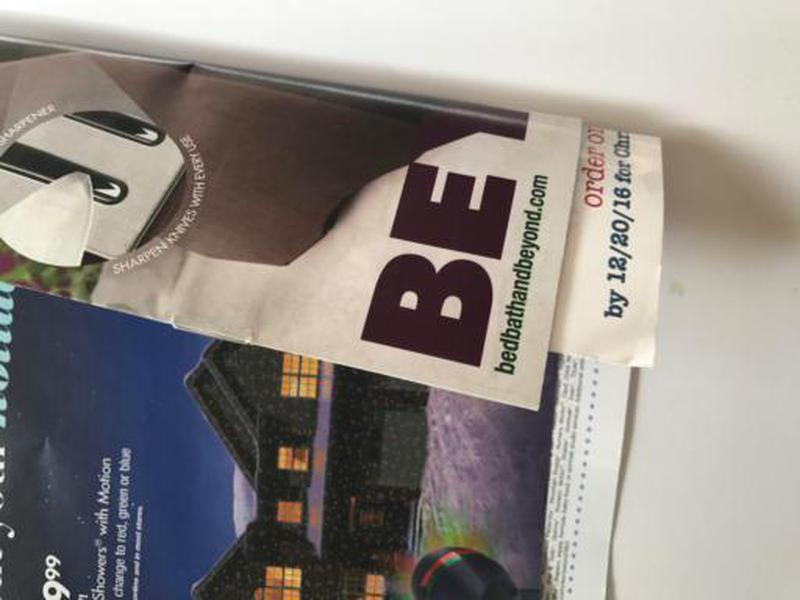paper: (1, 34, 668, 600)
